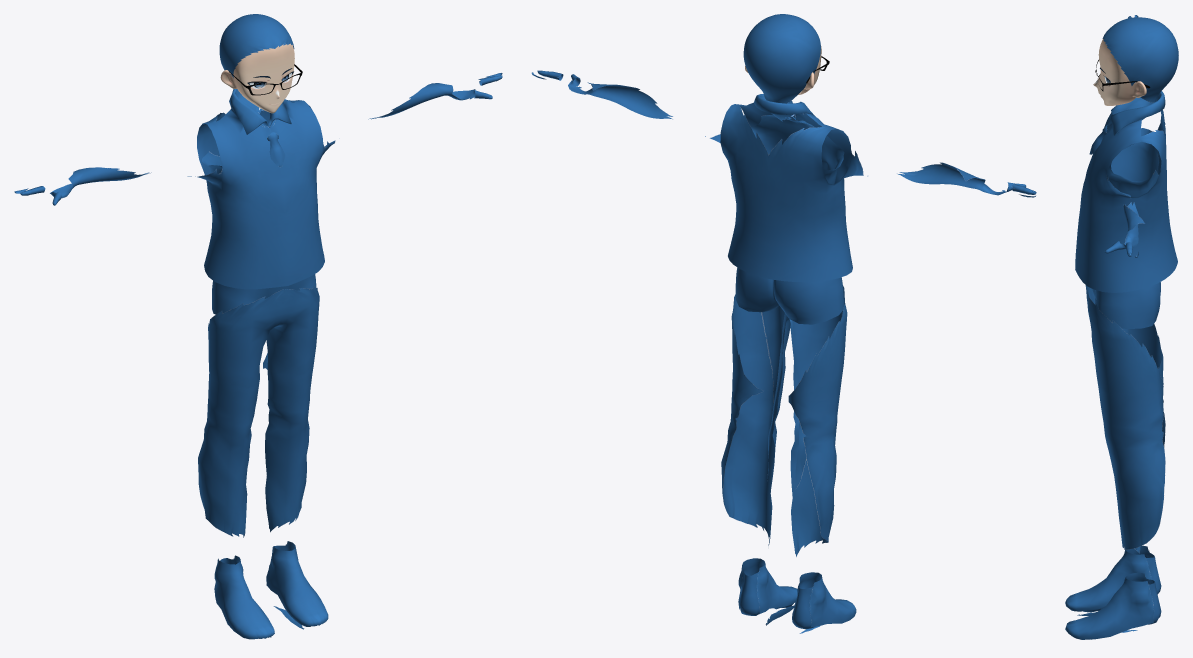
The model's file is ship_kun_body.glb.
The picture shows the model from 3 angles, left to right: view 1: azimuth 30°, elevation 25°; view 2: azimuth 150°, elevation 25°; view 3: azimuth 270°, elevation 25°; orthographic projection. The views are drawn at different scales.
Visible parts, largest first — view 1: Body; view 2: Body; view 3: Body.
Boxes of the visible parts, bbox=[...] form: Body: bbox=[14, 14, 502, 639]; Body: bbox=[531, 14, 1036, 633]; Body: bbox=[1065, 15, 1178, 639].
Bounding box in the file's own units: 1.54 × 1.78 × 0.305.
11 materials, 11 textured.
